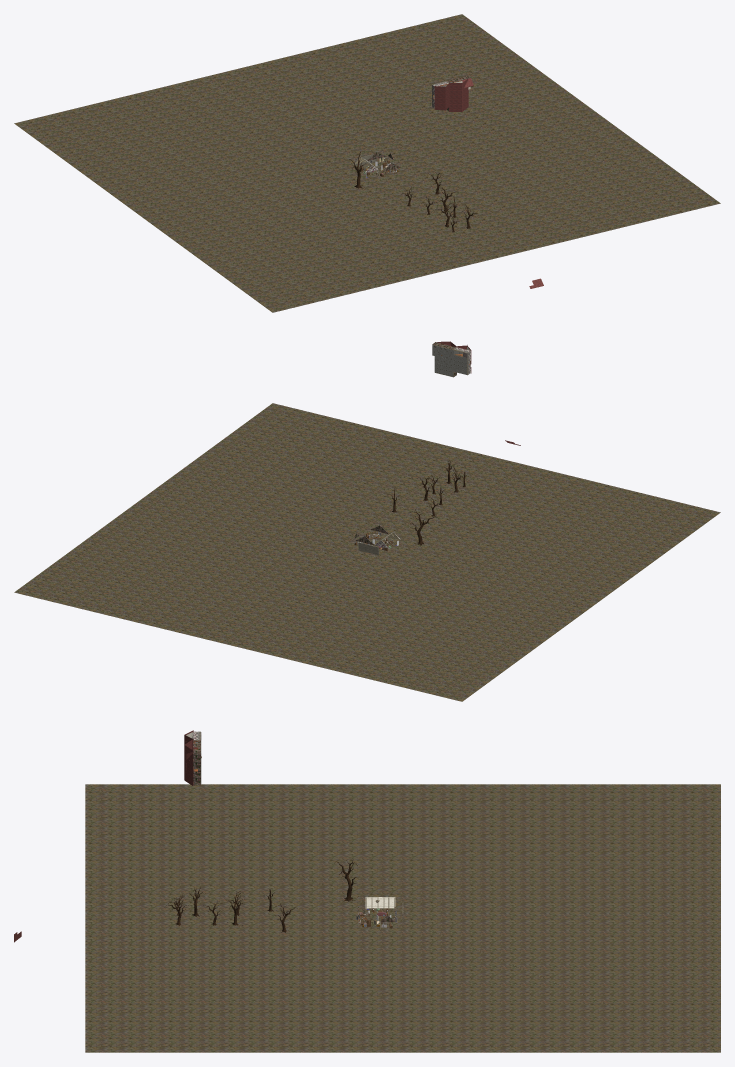
The model's file is house3.fbx.
3 views of the same model, one above another, from view 1: azimuth 30°, elevation 25°; view 2: azimuth 150°, elevation 25°; view 3: azimuth 270°, elevation 25° (orthographic). The views are drawn at different scales.
Visible parts, largest first — view 1: Groundplane; view 2: Groundplane; view 3: Groundplane.
Part boxes in pixels (x1,y1,x2,y2): Groundplane: (14,14,720,312); Groundplane: (14,403,720,701); Groundplane: (85,784,720,1052).
Bounding box in the file's own units: 200 × 66.49 × 222.
Materials: 54 (53 with a texture image).
